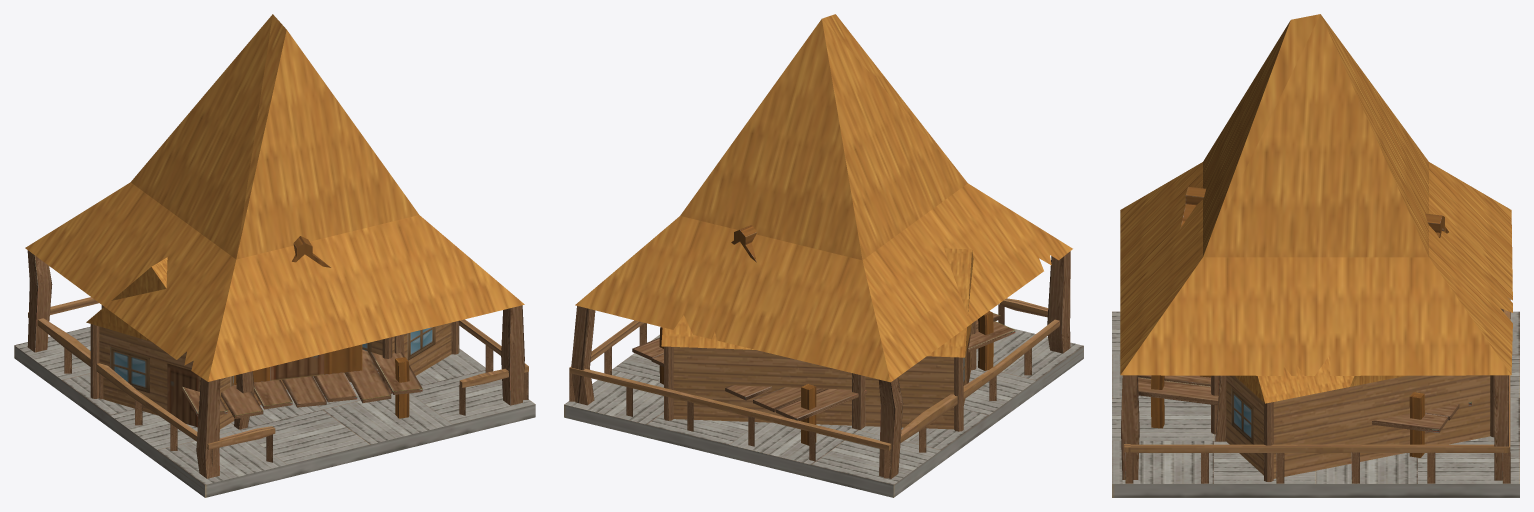
File: pirate_huts.glb
The picture shows the model from 3 angles, left to right: view 1: azimuth 30°, elevation 25°; view 2: azimuth 150°, elevation 25°; view 3: azimuth 270°, elevation 25°; orthographic projection. The views are drawn at different scales.
Parts seen in each view (by area): view 1: hut_pavilion_b, hut_house, hut_stilts, hut_pavilion_a; view 2: hut_pavilion_b, hut_house, hut_pavilion_a, hut_stilts; view 3: hut_pavilion_b, hut_house, hut_pavilion_a, hut_stilts.
Part boxes in pixels (<box>): hut_pavilion_b: <box>14,14,535,497</box>; hut_house: <box>86,257,459,431</box>; hut_stilts: <box>182,236,422,418</box>; hut_pavilion_a: <box>28,297,528,497</box>; hut_pavilion_b: <box>564,14,1083,497</box>; hut_house: <box>661,248,976,431</box>; hut_pavilion_a: <box>569,298,1083,478</box>; hut_stilts: <box>632,225,1015,445</box>; hut_pavilion_b: <box>1112,14,1519,497</box>; hut_house: <box>1211,354,1494,481</box>; hut_pavilion_a: <box>1124,297,1510,483</box>; hut_stilts: <box>1138,186,1471,457</box>.
Bounding box in the file's own units: 1.9 × 2.04 × 1.9.
Materials: 1 (1 with a texture image).
